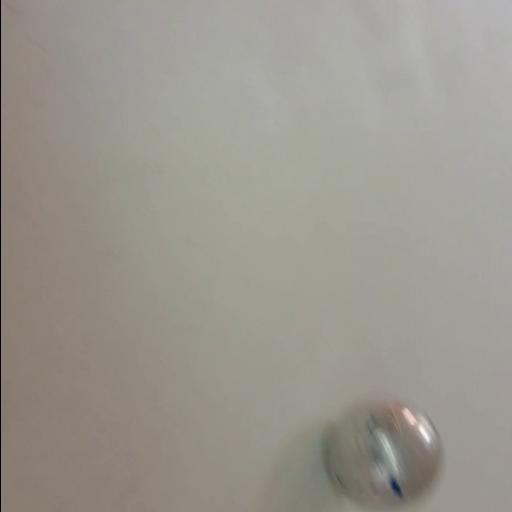alive: (327, 397, 443, 507)
